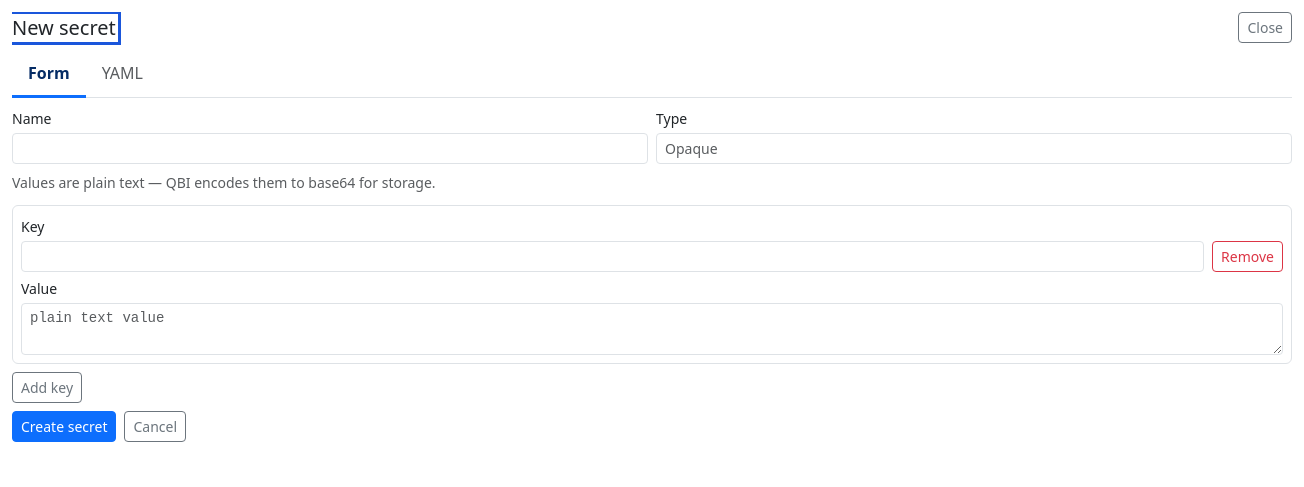
Test: SecretCreate - create flow › shows the error when creation fails
Type "api-token" into the field with id "secret-create-name".
click(330, 148); type("api-token")  # box [12,133,648,164]
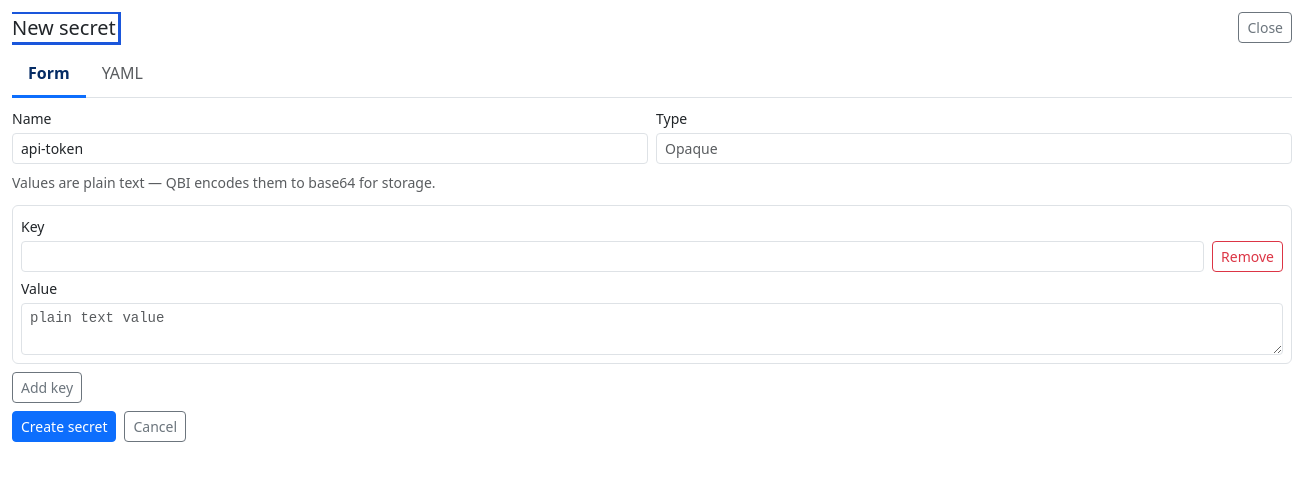
Type "user" into the field labelled "Key".
click(613, 256); type("user")  # box [21,241,1204,272]
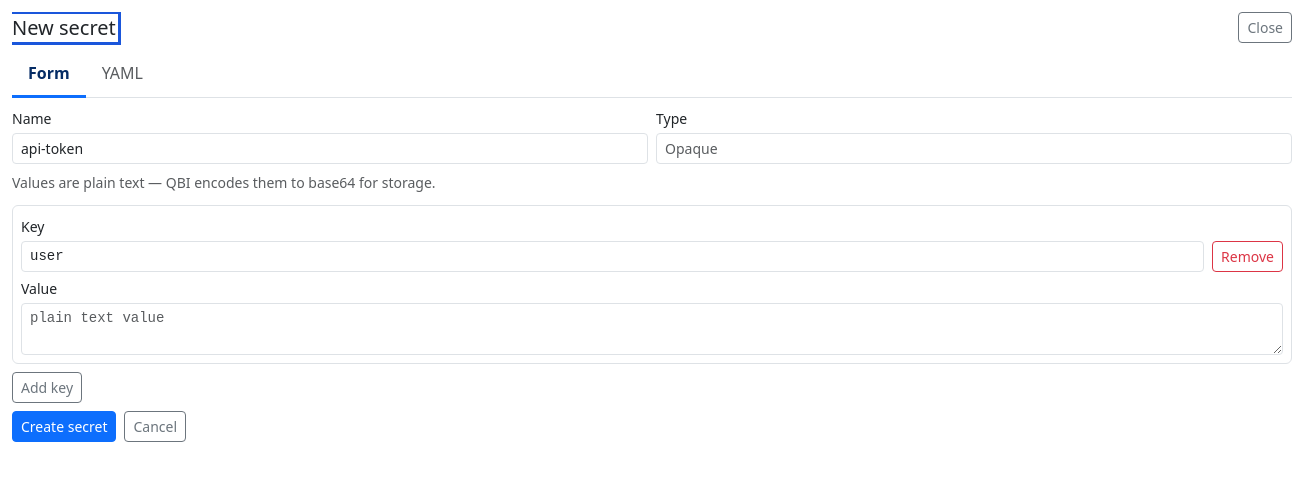
Type "admin" into the text box labelled "Value".
click(652, 329); type("admin")  # box [21,303,1283,355]
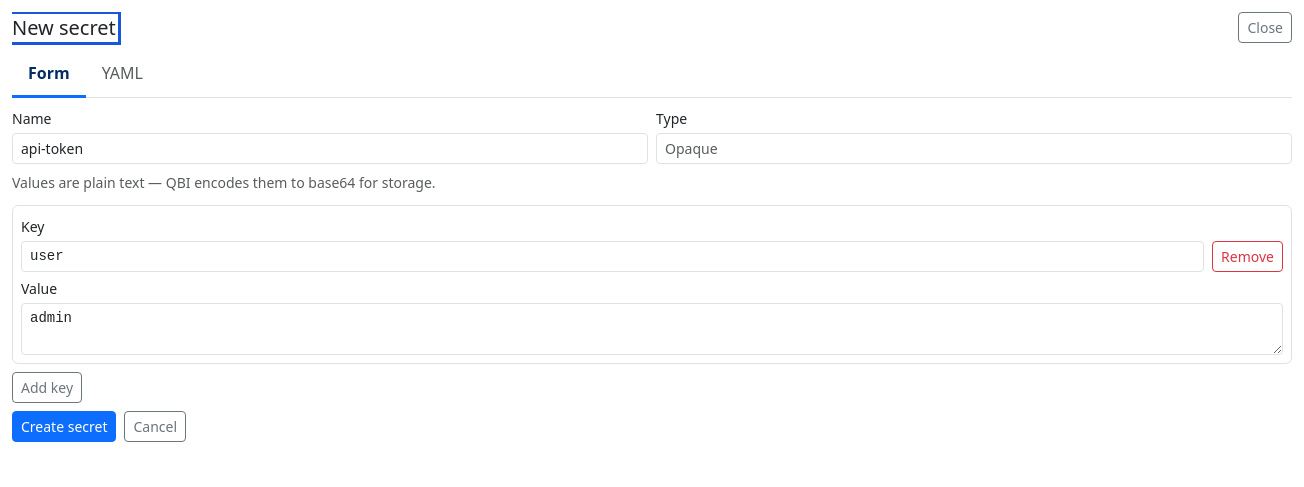
Submit the form
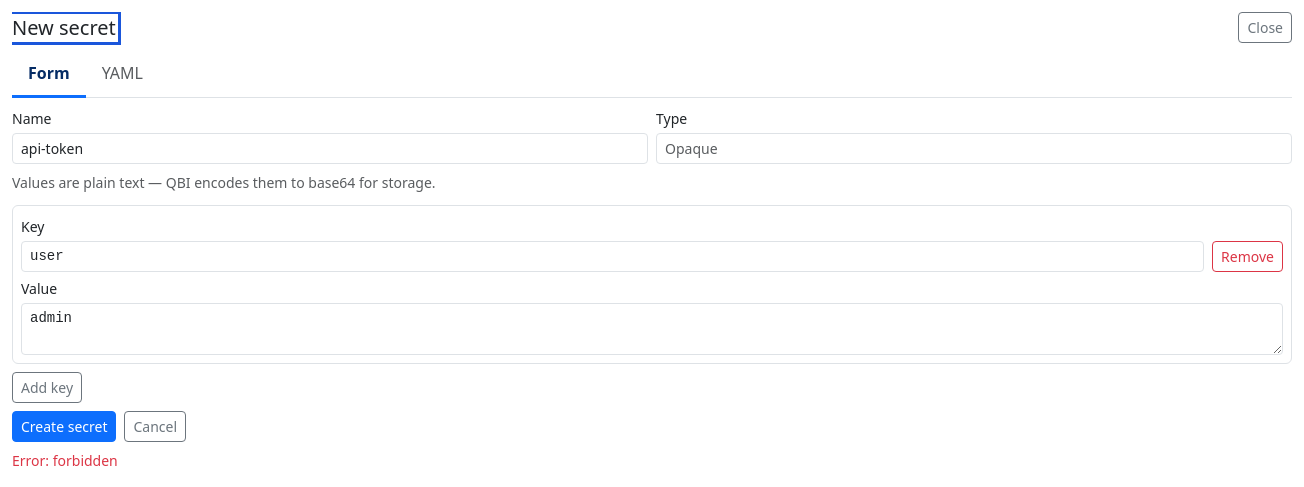
Result: the message "Error: forbidden" is shown at [12,451,118,470]
